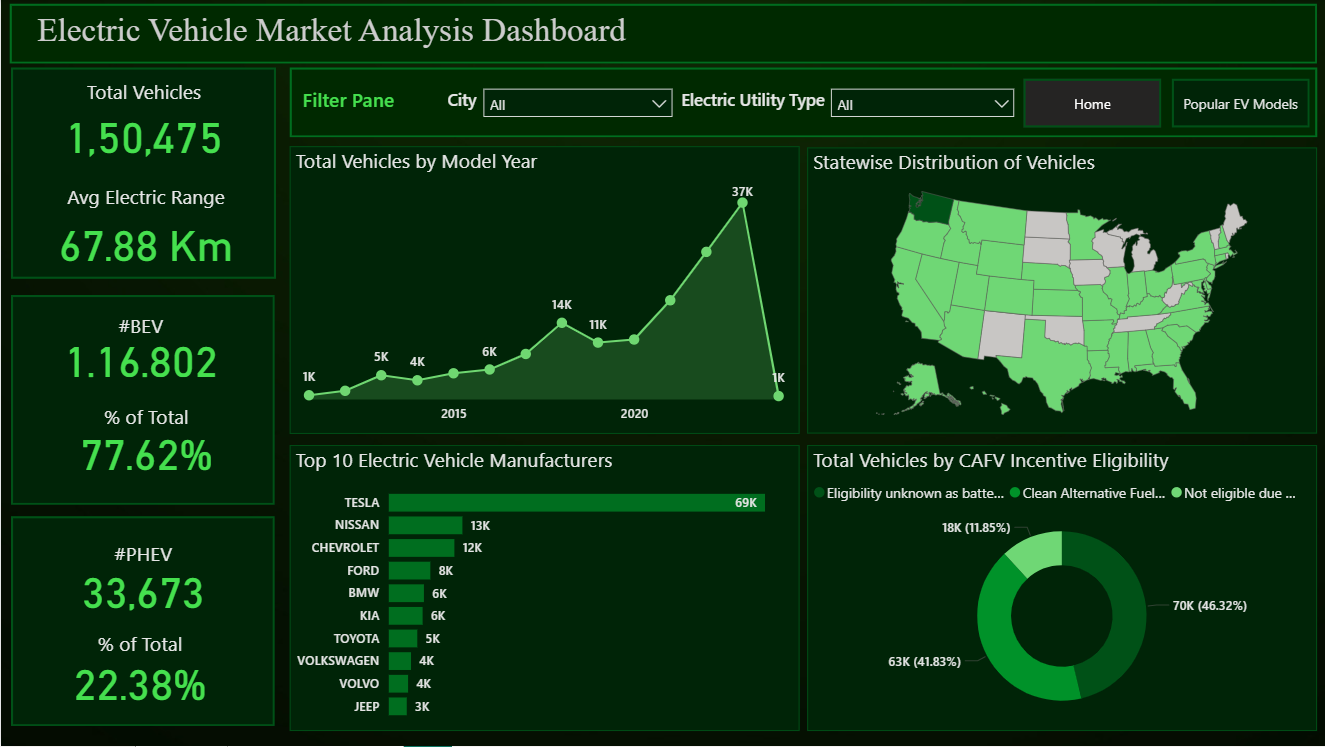

What the dashboard file says about the page in this screenshot:
{"tool":"powerbi","page":{"name":"Home","canvas":[1280,720],"ordinal":0},"visuals":[{"type":"shape","box":[8.4,3.6,1261.9,57.9],"z":0},{"type":"slicer","title":"City","fields":{"Values":["Electric_Vehicle_Population_Dat.City"]},"box":[460.7,80.8,191.8,36.2],"z":0,"group":"g3"},{"type":"slicer","title":"City","fields":{"Values":["Electric_Vehicle_Population_Dat.City"]},"box":[796.6,80.8,186.9,35.1],"z":0,"group":"g4"},{"type":"card","title":"#BEV","fields":{"Values":["All Measures.#BEV Vehicles"]},"box":[41,301.6,188.2,67.5],"z":0,"group":"g1"},{"type":"card","title":"#PHEV","fields":{"Values":["All Measures.#PHEV Vehicles"]},"box":[43.4,521.2,188.2,73.2],"z":0,"group":"g2"},{"type":"textbox","box":[8.4,4.8,621.3,56.7],"z":1000},{"type":"card","title":"% of Total","fields":{"Values":["All Measures.%BEV"]},"box":[61.2,389.3,157.9,71.5],"z":1000,"group":"g1"},{"type":"card","title":"% of Total","fields":{"Values":["All Measures.%PHEV"]},"box":[56,607.6,157.9,77.6],"z":1000,"group":"g2"},{"type":"lineChart","title":"Total Vehicles by Model Year","fields":{"Category":["Electric_Vehicle_Population_Dat.Model Year"],"Y":["All Measures.Total_vehicles"]},"box":[278.7,141.2,492.2,277.5],"z":2000},{"type":"shape","box":[9.7,65.1,255.8,203.9],"z":3000},{"type":"shape","box":[9.7,284.7,254.6,202.7],"z":4000},{"type":"shape","box":[9.7,498.3,254.6,202.7],"z":5000},{"type":"shape","box":[278.7,65.1,991.7,67.6],"z":6000},{"type":"card","title":"Total Vehicles","fields":{"Values":["All Measures.Total Vehicles"]},"box":[49.5,76,177.3,86.9],"z":7000},{"type":"card","title":"Avg Electric Range","fields":{"Values":["All Measures.Avg Electric Range"]},"box":[36.2,177.3,207.5,91.7],"z":8000},{"type":"group","id":"g1","title":"Group 1","box":[41,301.6,188.2,159.3],"z":9000},{"type":"group","id":"g2","title":"Group 1","box":[43.4,521.2,188.2,164.1],"z":10000},{"type":"shapeMap","title":"Statewise Distribution of Vehicles","fields":{"Value":["All Measures.Total Vehicles"],"Category":["Electric_Vehicle_Population_Dat.State"]},"box":[778.2,142.4,492.2,276.3],"z":11000},{"type":"clusteredBarChart","title":"Top 10 Electric Vehicle Manufacturers","fields":{"Category":["Electric_Vehicle_Population_Dat.Make"],"Y":["All Measures.Total Vehicles"]},"box":[278.7,429.5,492.2,276.3],"z":12000},{"type":"donutChart","title":"Total Vehicles by CAFV Incentive Eligibility","fields":{"Category":["Electric_Vehicle_Population_Dat.Clean Alternative Fuel Vehicle (CAFV) Eligibility"],"Y":["All Measures.Total Vehicles"]},"box":[778.2,429.5,492.2,276.3],"z":13000},{"type":"group","id":"g3","title":"Group 2","box":[460.7,80.8,191.8,36.2],"z":14000},{"type":"group","id":"g4","title":"Group 2","box":[796.6,80.8,186.9,35.1],"z":15000},{"type":"pageNavigator","box":[986.9,76,277.5,47.1],"z":16000},{"type":"textbox","box":[285.9,78.4,131.5,45.8],"z":17000},{"type":"textbox","box":[425.9,79.6,70,43.4],"z":17001},{"type":"textbox","box":[651.5,79.6,162.9,43.4],"z":17002}]}

Visuals, with their boxes in screenshot pixels (x1, y1, x2, y2), scaled from the page's 1280x720 canvas onto the 1325x747 screenshot:
shape: 9, 4, 1315, 64
"City" slicer: 477, 84, 675, 121
"City" slicer: 825, 84, 1018, 120
"#BEV" card: 42, 313, 237, 383
"#PHEV" card: 45, 541, 240, 617
textbox: 9, 5, 652, 64
"% of Total" card: 63, 404, 227, 478
"% of Total" card: 58, 630, 221, 711
"Total Vehicles by Model Year" lineChart: 288, 146, 798, 434
shape: 10, 68, 275, 279
shape: 10, 295, 274, 506
shape: 10, 517, 274, 727
shape: 288, 68, 1315, 138
"Total Vehicles" card: 51, 79, 235, 169
"Avg Electric Range" card: 37, 184, 252, 279
"Group 1" group: 42, 313, 237, 478
"Group 1" group: 45, 541, 240, 711
"Statewise Distribution of Vehicles" shapeMap: 806, 148, 1315, 434
"Top 10 Electric Vehicle Manufacturers" clusteredBarChart: 288, 446, 798, 732
"Total Vehicles by CAFV Incentive Eligibility" donutChart: 806, 446, 1315, 732
"Group 2" group: 477, 84, 675, 121
"Group 2" group: 825, 84, 1018, 120
pageNavigator: 1022, 79, 1309, 128
textbox: 296, 81, 432, 129
textbox: 441, 83, 513, 128
textbox: 674, 83, 843, 128
